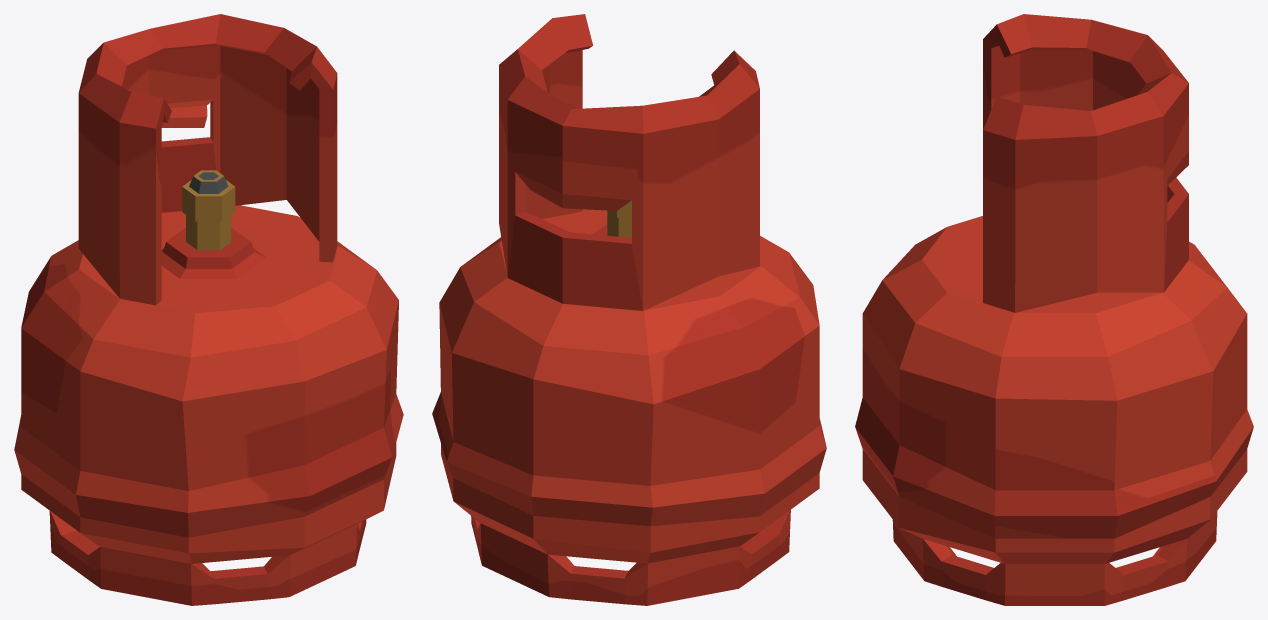
Rendered from SM_Barrel_B_01.gltf.
3 renders of one model, left to right at view 1: azimuth 30°, elevation 25°; view 2: azimuth 150°, elevation 25°; view 3: azimuth 270°, elevation 25°, orthographic.
Parts seen in each view (by area): view 1: SM_Barrel_B_01; view 2: SM_Barrel_B_01; view 3: SM_Barrel_B_01.
Part boxes in pixels (left/top/right/bottom): SM_Barrel_B_01: left=14, top=14, right=403, bottom=605; SM_Barrel_B_01: left=432, top=14, right=826, bottom=605; SM_Barrel_B_01: left=855, top=14, right=1253, bottom=605.
Bounding box in the file's own units: 0.3662 × 0.5139 × 0.3839.
1 material, 1 textured.
